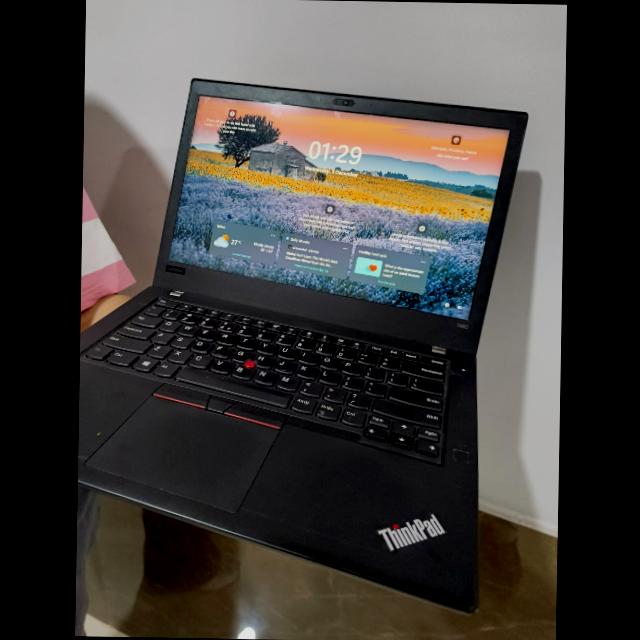laptop: (86, 69, 561, 615)
